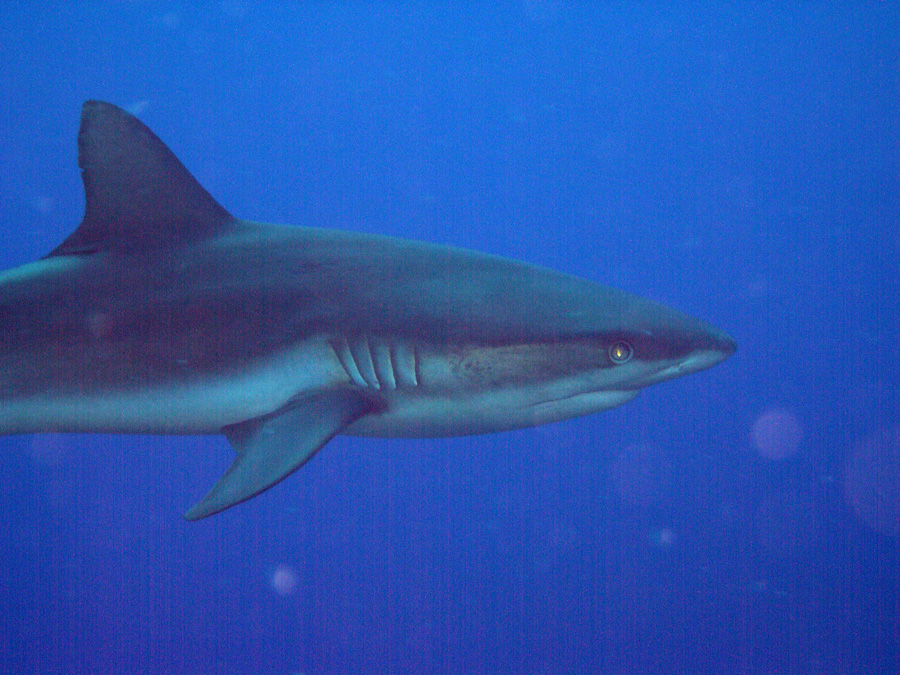Carcharhinus_amblyrhynchos: (1, 97, 752, 531)
